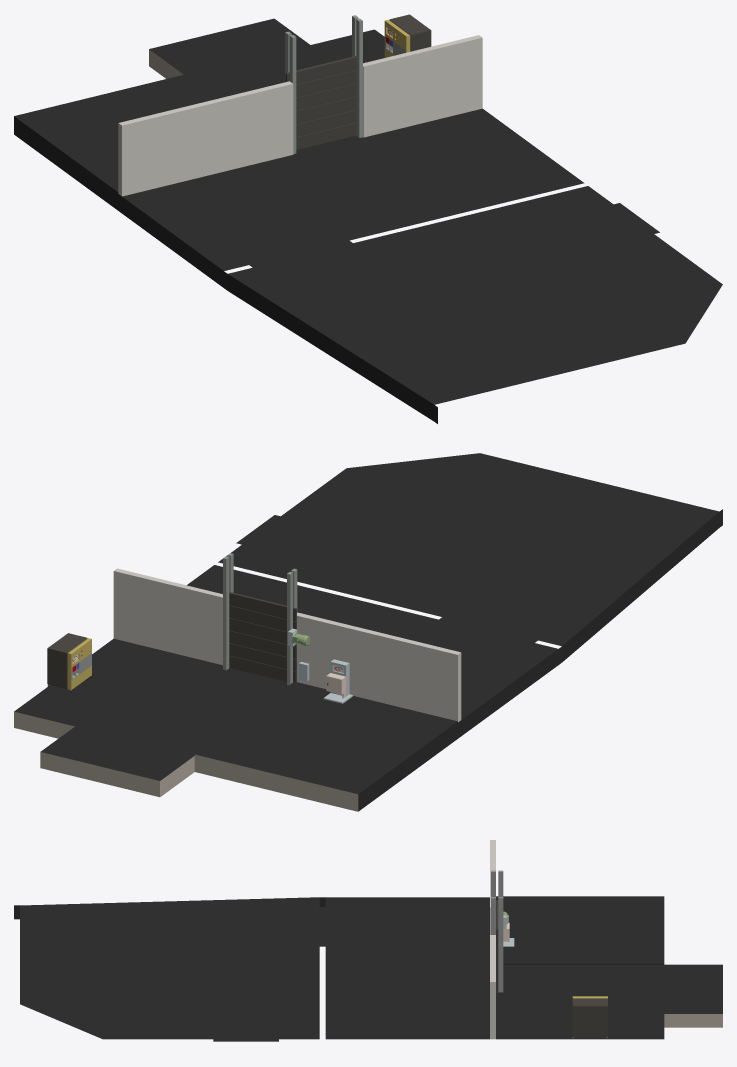
File: ChargerRoom.fbx
3 renders of one model, top to bottom at view 1: azimuth 30°, elevation 25°; view 2: azimuth 150°, elevation 25°; view 3: azimuth 270°, elevation 25°, orthographic. The views are drawn at different scales.
Visible parts, largest first — view 1: ChargerForkliftGround, ChargerGateWall, GarageDoor, Slides, Charger.005; view 2: ChargerForkliftGround, ChargerGateWall, GarageDoor, Slides, Charger.005, GateMotor.003, Charger; view 3: ChargerForkliftGround, Charger.005, Slides, ChargerGateWall.
Boxes of the visible parts, x1=… form: ChargerForkliftGround: x1=14, y1=18, x2=722, y2=423; ChargerGateWall: x1=118, y1=35, x2=482, y2=196; GarageDoor: x1=285, y1=56, x2=356, y2=150; Slides: x1=285, y1=15, x2=362, y2=153; Charger.005: x1=389, y1=14, x2=431, y2=51; ChargerForkliftGround: x1=14, y1=453, x2=722, y2=811; ChargerGateWall: x1=113, y1=568, x2=461, y2=722; GarageDoor: x1=229, y1=592, x2=296, y2=682; Slides: x1=223, y1=553, x2=297, y2=685; Charger.005: x1=47, y1=633, x2=87, y2=688; GateMotor.003: x1=288, y1=628, x2=352, y2=703; Charger: x1=67, y1=638, x2=91, y2=673; ChargerForkliftGround: x1=14, y1=896, x2=722, y2=1041; Charger.005: x1=572, y1=998, x2=607, y2=1036; Slides: x1=491, y1=870, x2=503, y2=992; ChargerGateWall: x1=490, y1=840, x2=495, y2=1039.
Bounding box in the file's own units: 29.24 × 10.17 × 60.67.
1 material, 1 textured.
